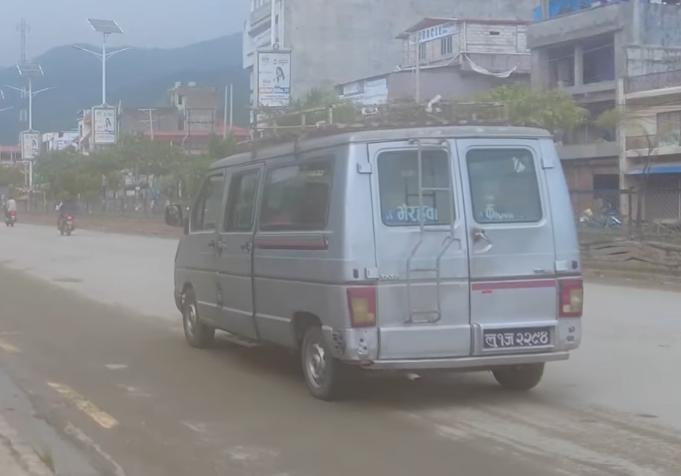micro_bus: (160, 110, 597, 407)
